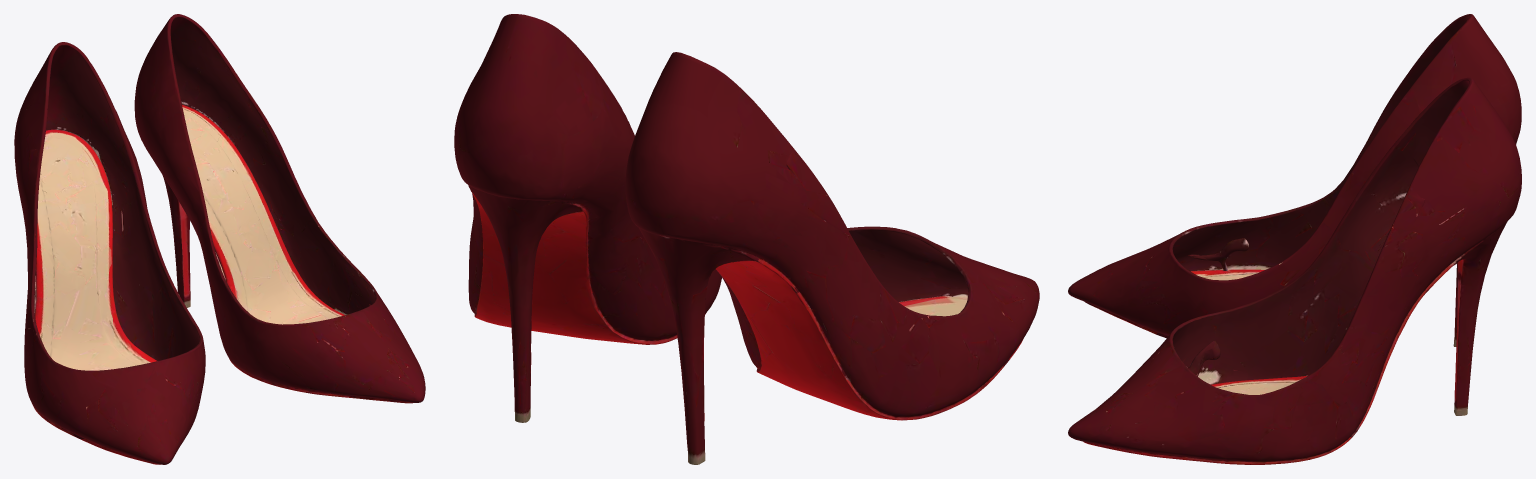
File: kate-bordeaux.glb
3 renders of one model, left to right at view 1: azimuth 30°, elevation 25°; view 2: azimuth 150°, elevation 25°; view 3: azimuth 270°, elevation 25°, orthographic. The views are drawn at different scales.
Visible parts, largest first — view 1: Louboutin_burgundy; view 2: Louboutin_burgundy; view 3: Louboutin_burgundy.
Boxes of the visible parts, box(x1,y1,x2,y2) form: Louboutin_burgundy: box(14, 14, 425, 464); Louboutin_burgundy: box(454, 14, 1039, 464); Louboutin_burgundy: box(1068, 14, 1521, 464).
Size of the model in its own units: 1.89 by 1.53 by 1.9.
1 material, 1 textured.
